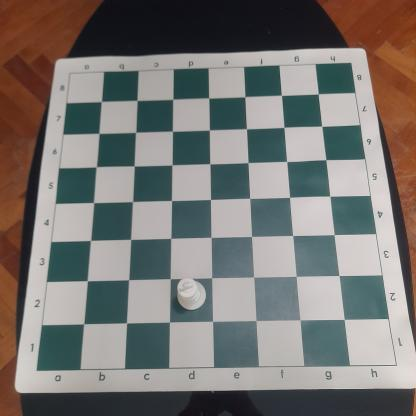white-king: (176, 277, 208, 311)
